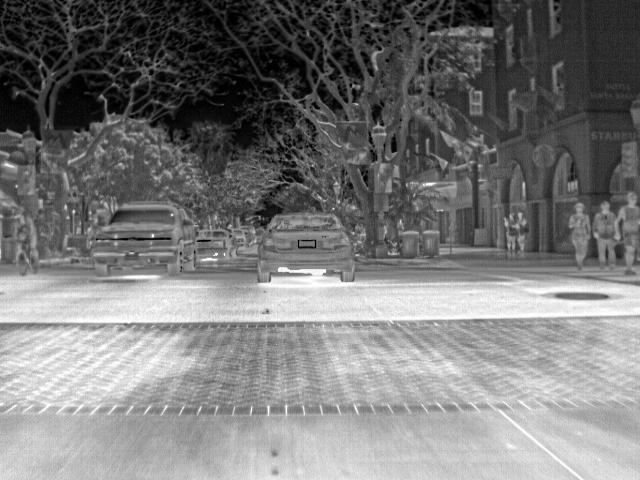car: (92, 200, 194, 274), (253, 213, 356, 282), (197, 228, 237, 259), (193, 240, 230, 267), (228, 228, 246, 248)
person: (590, 202, 617, 274), (618, 192, 639, 273), (570, 199, 592, 272), (511, 213, 531, 253), (501, 212, 516, 252)
